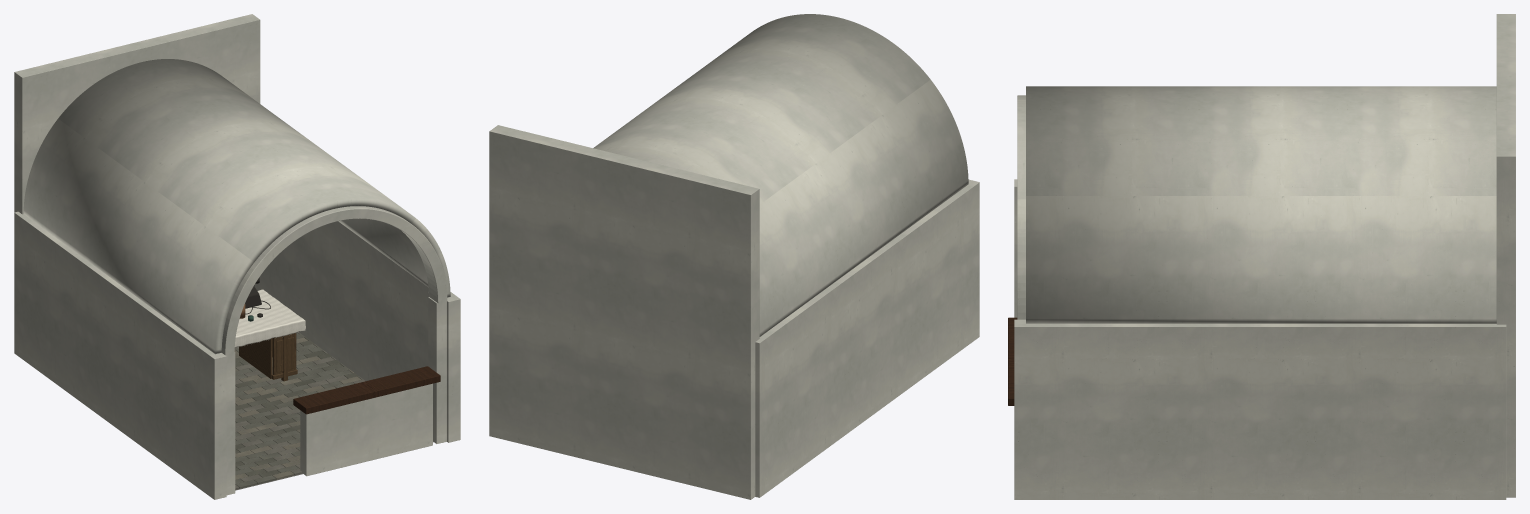
The model's file is zaoyuan_office.glb.
The picture shows the model from 3 angles, left to right: view 1: azimuth 30°, elevation 25°; view 2: azimuth 150°, elevation 25°; view 3: azimuth 270°, elevation 25°; orthographic projection. The views are drawn at different scales.
Visible parts, largest first — view 1: office_photo_interior; view 2: office_photo_interior; view 3: office_photo_interior.
Part boxes in pixels (left/top/right/bottom): office_photo_interior: left=14, top=14, right=460, bottom=499; office_photo_interior: left=489, top=14, right=979, bottom=499; office_photo_interior: left=1008, top=14, right=1515, bottom=499.
Size of the model in its own units: 3.62 by 3.92 by 5.26.
Materials: 18 (12 with a texture image).
